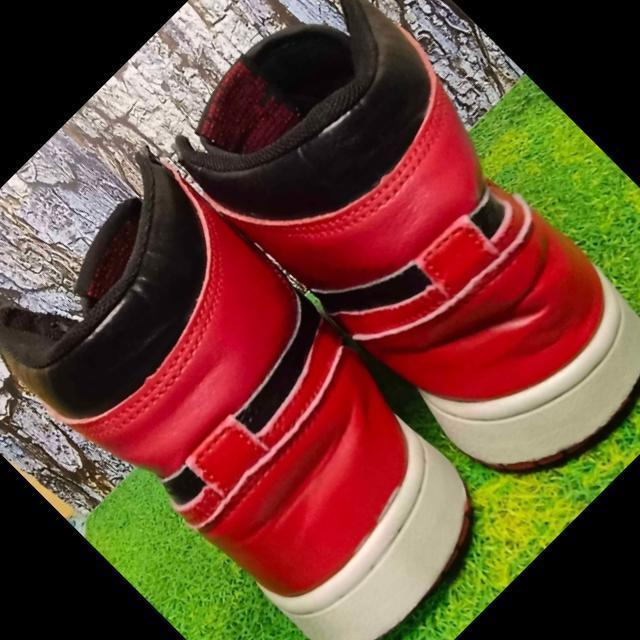nike fake jordan 1: (0, 134, 521, 640), (148, 0, 640, 514)
